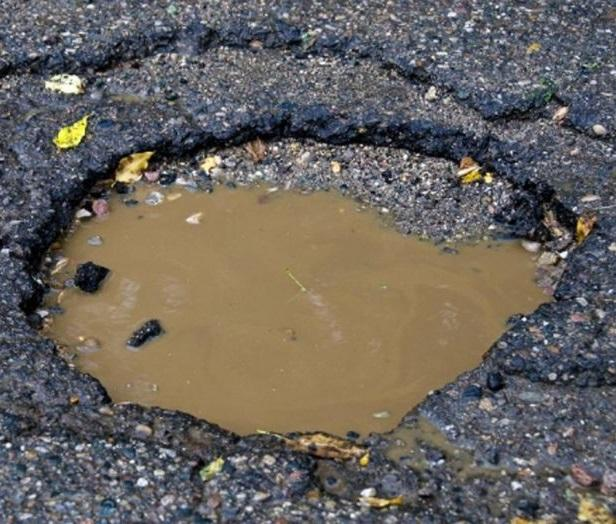Pothole: (1, 108, 613, 517)
